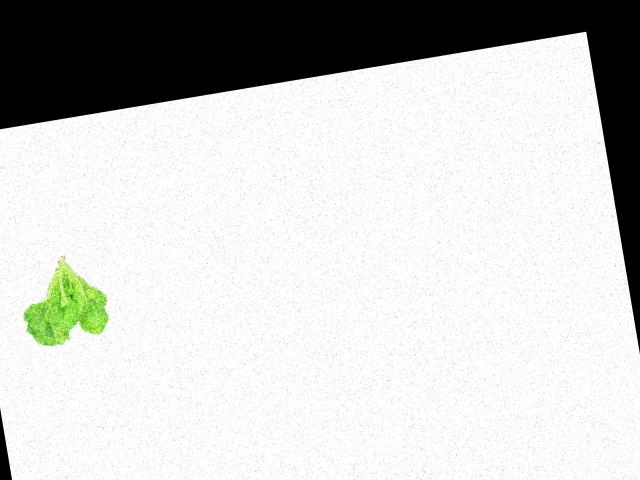lettuce: (9, 247, 116, 356)
